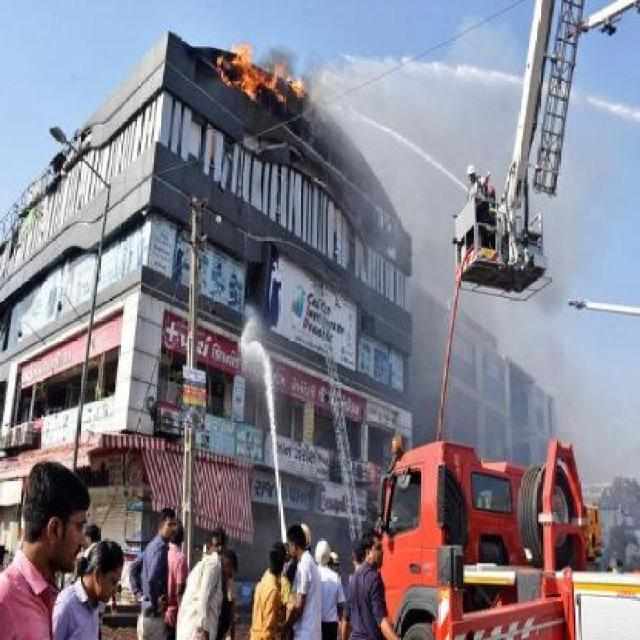Fire: (180, 11, 338, 124)
Smoke: (336, 28, 612, 439)
